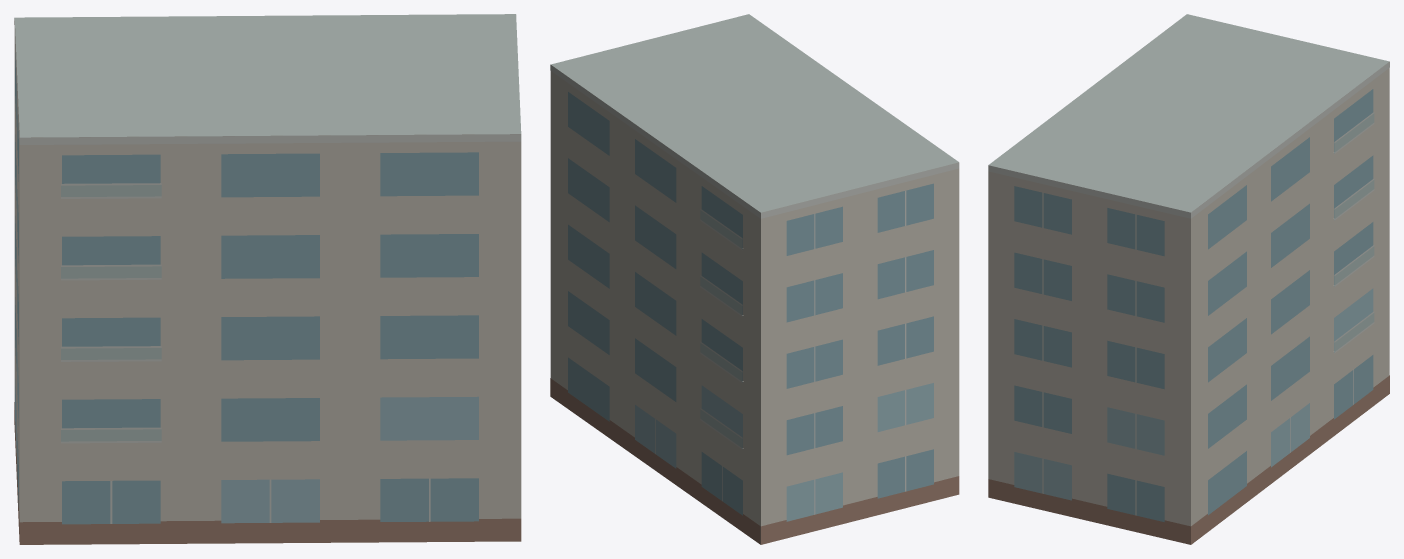
Rendered from survey-upis-32847835.glb.
3 views of the same model, side by side, from view 1: azimuth 30°, elevation 25°; view 2: azimuth 150°, elevation 25°; view 3: azimuth 270°, elevation 25° (orthographic). The views are drawn at different scales.
Visible parts, largest first — view 1: survey-upis-32847835.tmp; view 2: survey-upis-32847835.tmp; view 3: survey-upis-32847835.tmp.
Part boxes in pixels (<box>): survey-upis-32847835.tmp: <box>14,14,521,544</box>; survey-upis-32847835.tmp: <box>550,14,959,544</box>; survey-upis-32847835.tmp: <box>988,14,1389,544</box>.
Size of the model in its own units: 16.93 by 13.2 by 14.46.
